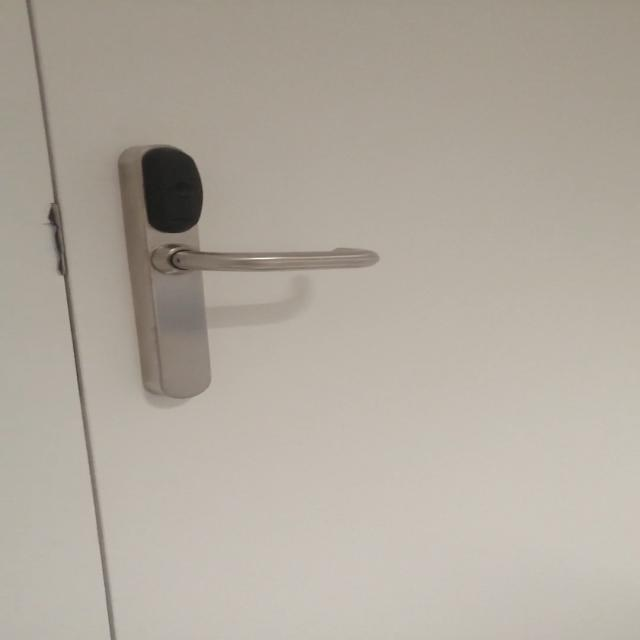door_handle: (129, 235, 394, 284)
